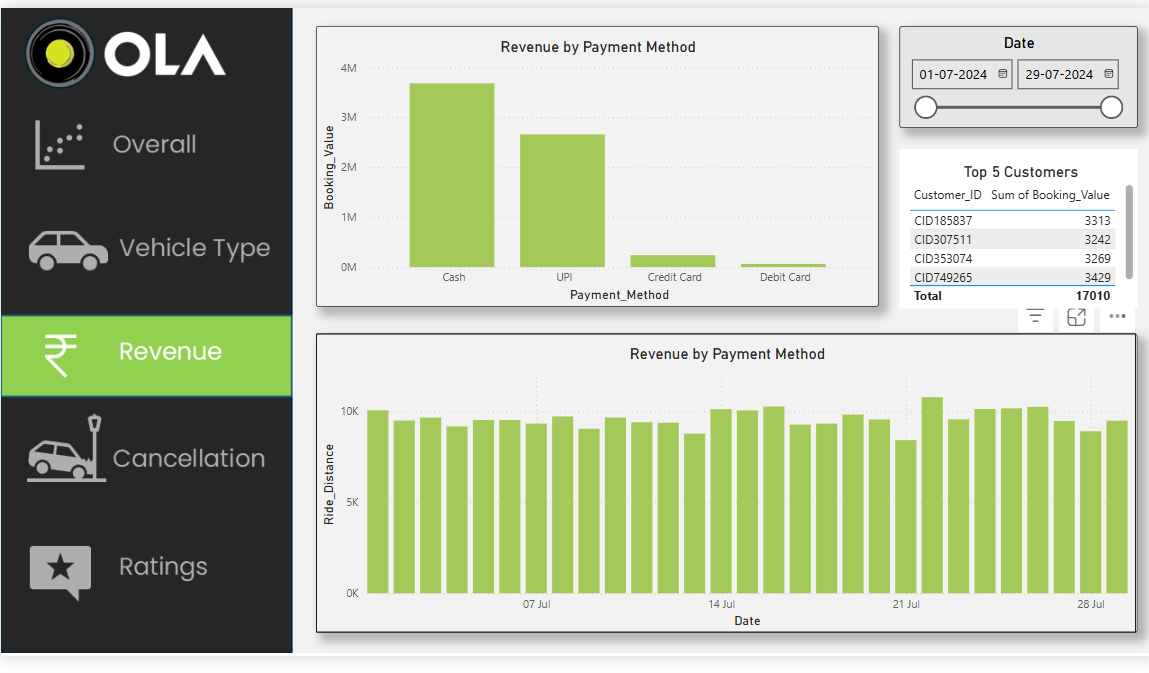

Layout of this report page (visuals, bound fields, positions):
{"tool":"powerbi","page":{"name":"Revenue","canvas":[1280,720],"ordinal":2},"visuals":[{"type":"actionButton","box":[0,219.6,322.1,92.7],"z":0},{"type":"actionButton","box":[10,229.6,322.1,92.7],"z":1000},{"type":"actionButton","box":[0,226.1,322.1,92.7],"z":2000},{"type":"actionButton","box":[9.8,110.6,312.3,92.7],"z":3000},{"type":"actionButton","box":[0,453.8,322.1,104.1],"z":4000},{"type":"actionButton","box":[0,588.8,322.1,104.1],"z":5000},{"type":"columnChart","title":"Revenue by Payment Method","fields":{"Y":["Sum(July.Booking_Value)"],"Category":["July.Payment_Method"]},"box":[349.6,20.8,625.5,311.8],"z":6000},{"type":"columnChart","title":"Revenue by Payment Method","fields":{"Y":["Sum(July.Ride_Distance)"],"Category":["July.Date"]},"box":[349.6,360.9,912.8,332.6],"z":7000},{"type":"slicer","title":"Date","fields":{"Values":["July.Date"]},"box":[997.8,20.8,264.6,113.4],"z":8000},{"type":"tableEx","title":"Top 5 Customers","fields":{"Values":["July.Customer_ID","Sum(July.Booking_Value)"]},"box":[997.8,156.7,264.8,177.2],"z":9000}]}

Visuals, with their boxes on the page's 1280x720 design canvas (x1, y1, x2, y2). These are canvas units, not pixel positions in the 1149x673 screenshot, which may show the page scaled, cropped or inside an application window:
actionButton: box(0, 220, 322, 312)
actionButton: box(10, 230, 332, 322)
actionButton: box(0, 226, 322, 319)
actionButton: box(10, 111, 322, 203)
actionButton: box(0, 454, 322, 558)
actionButton: box(0, 589, 322, 693)
"Revenue by Payment Method" columnChart: box(350, 21, 975, 333)
"Revenue by Payment Method" columnChart: box(350, 361, 1262, 694)
"Date" slicer: box(998, 21, 1262, 134)
"Top 5 Customers" tableEx: box(998, 157, 1263, 334)
